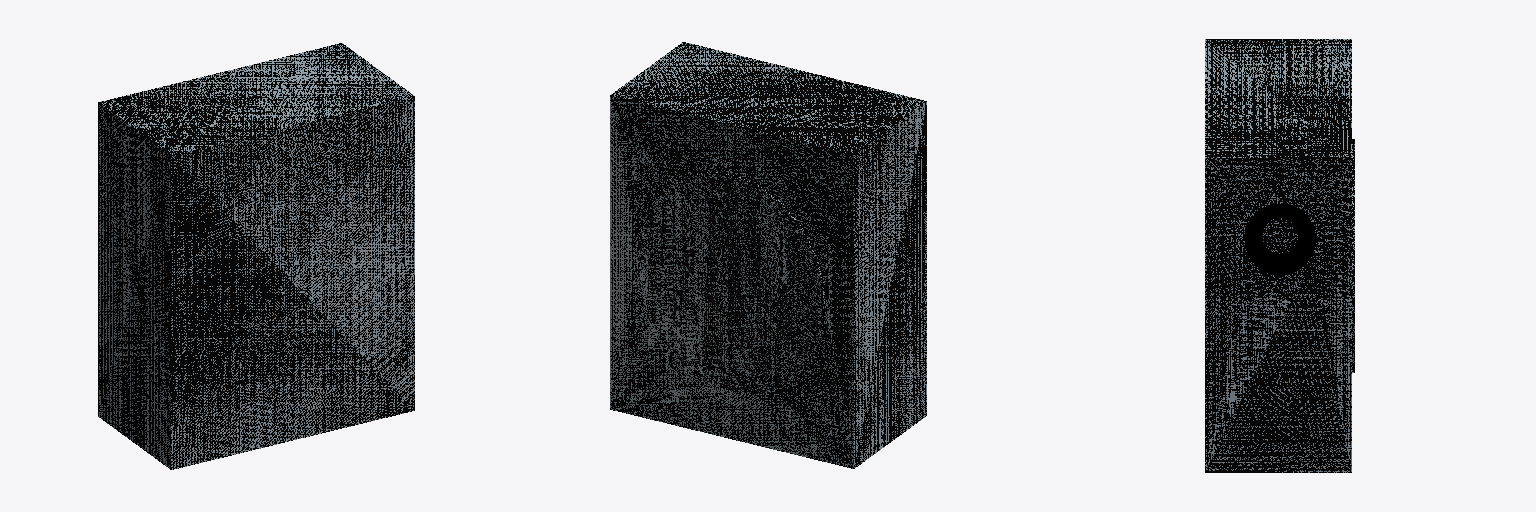
3 renders of one model, left to right at view 1: azimuth 30°, elevation 25°; view 2: azimuth 150°, elevation 25°; view 3: azimuth 270°, elevation 25°, orthographic.
Visible parts, largest first — view 1: Mesh3 Group1 Model; view 2: Mesh3 Group1 Model; view 3: Mesh3 Group1 Model, Mesh1 Group2 Group1 Model.
Boxes of the visible parts, box(x1,y1,x2,y2) form: Mesh3 Group1 Model: box(98, 43, 414, 469); Mesh3 Group1 Model: box(610, 42, 926, 468); Mesh3 Group1 Model: box(1205, 39, 1354, 472); Mesh1 Group2 Group1 Model: box(1244, 203, 1315, 274).
Size of the model in its own units: 8.29 by 10.22 by 4.39.
Materials: 4 (1 with a texture image).